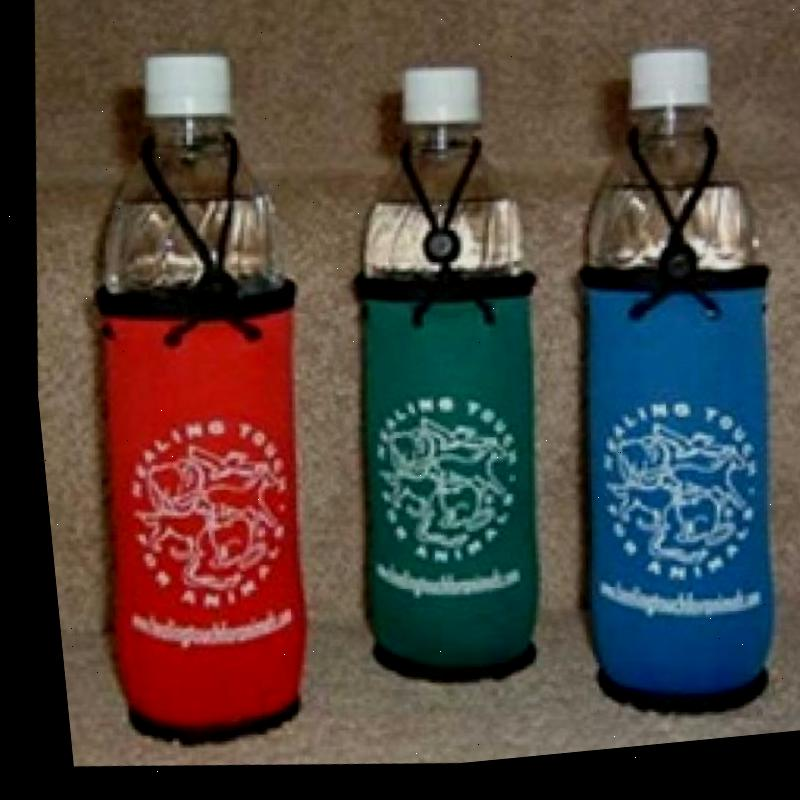botella: (559, 46, 796, 313), (68, 44, 297, 319), (331, 54, 541, 294)
